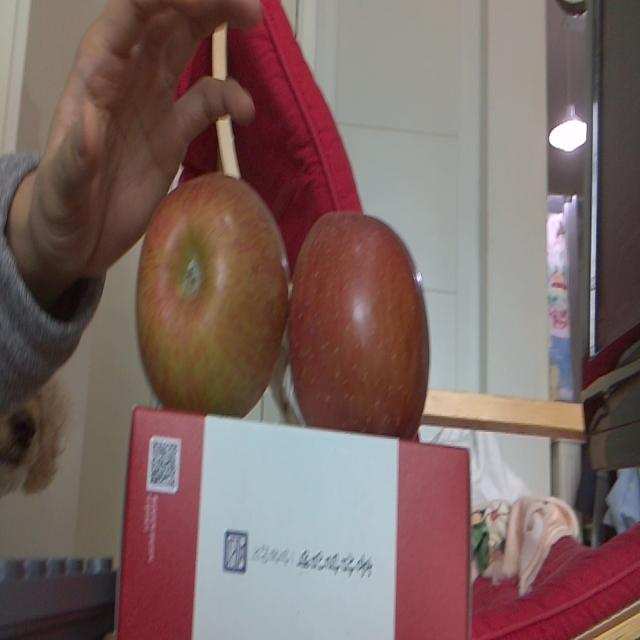apple: (137, 175, 286, 407), (289, 215, 429, 426)
